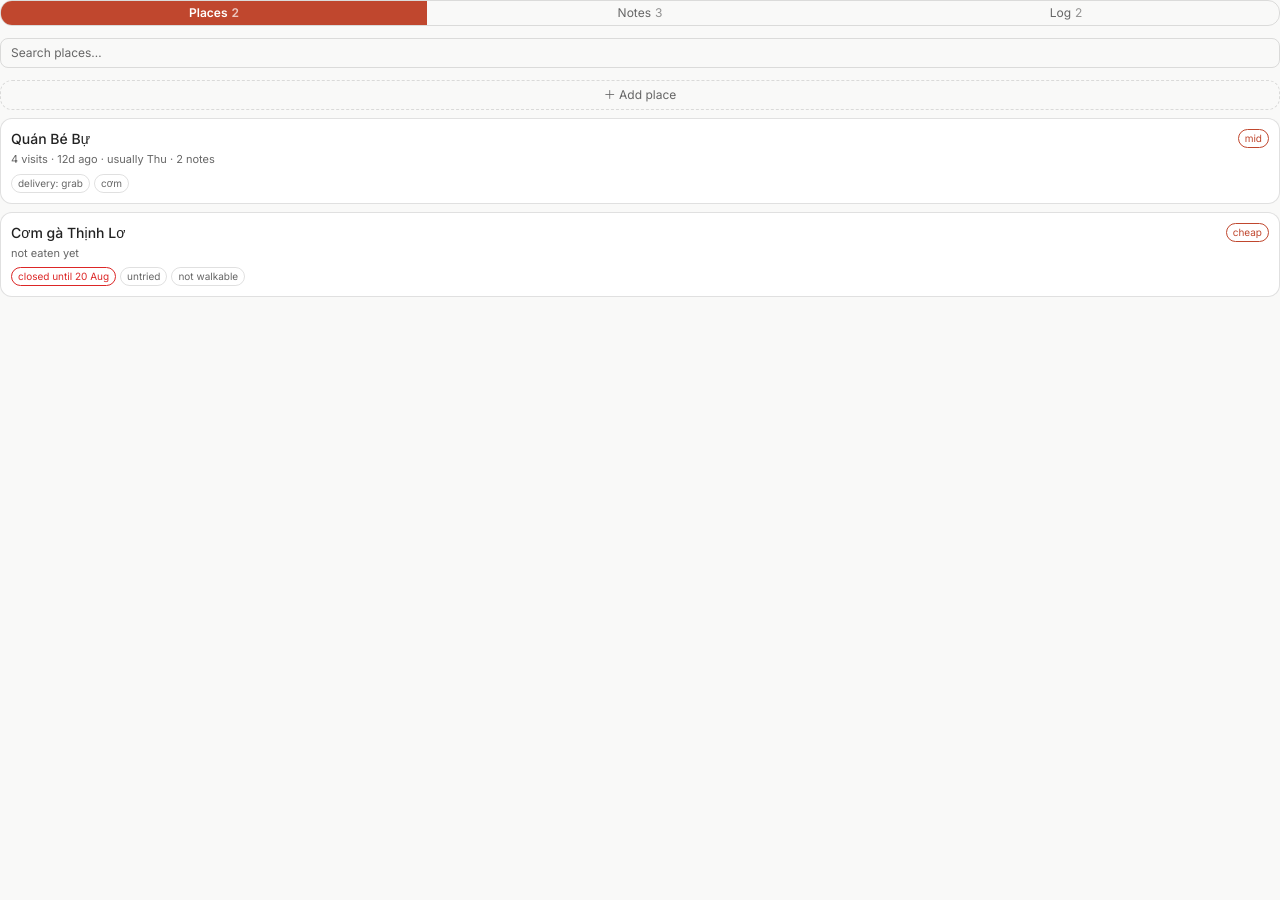
Test: KnowledgePanel — notes › opens the note editor on tap
The width and height of the screenshot is (1280, 900).
Check: the text "Quán Bé Bự" is shown, box left=11, top=130, right=90, bottom=147
Click the tab "Notes3".
click(640, 13)  # box left=427, top=1, right=853, bottom=25
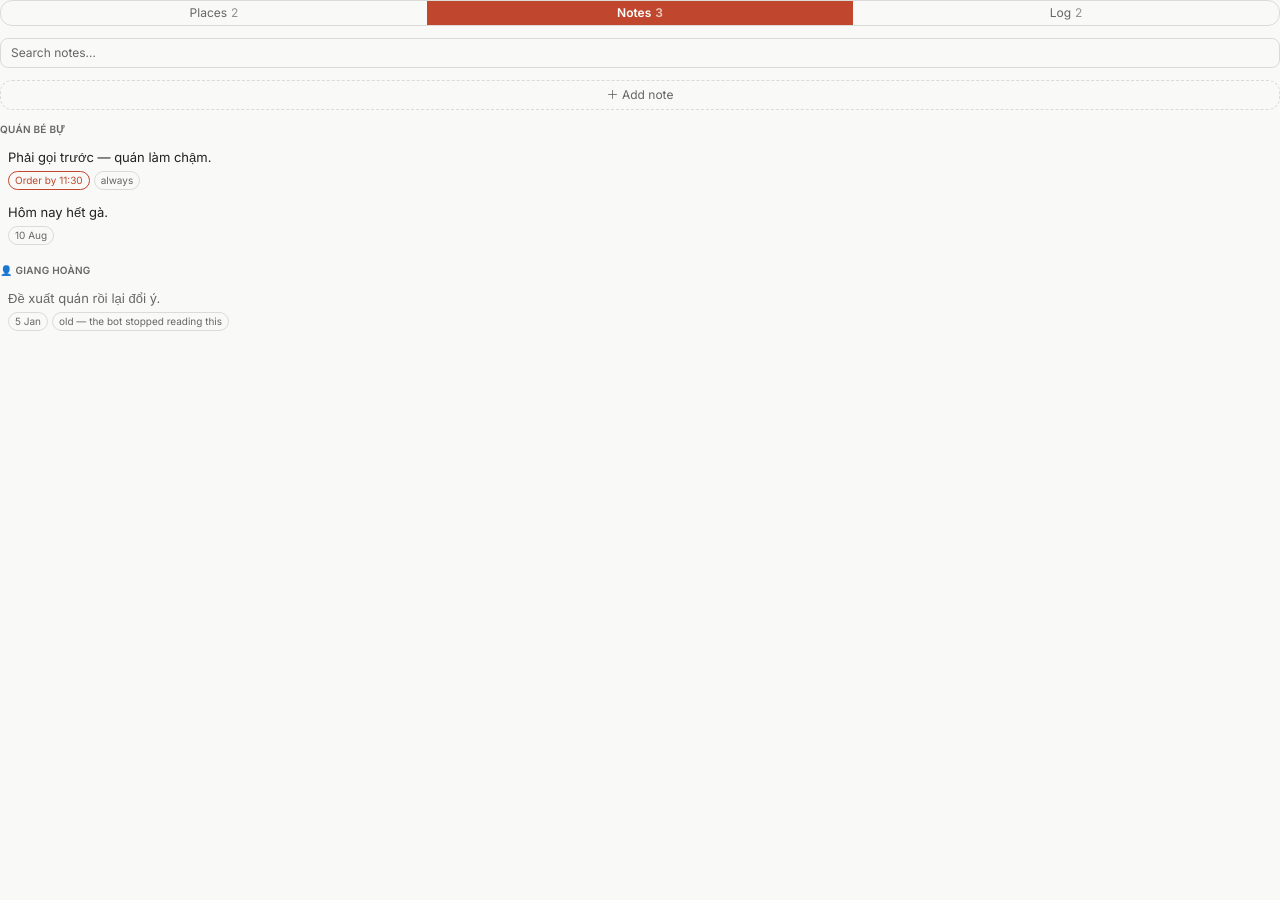
Click the text "Hôm nay hết gà.".
click(58, 212)  # box left=8, top=204, right=108, bottom=220
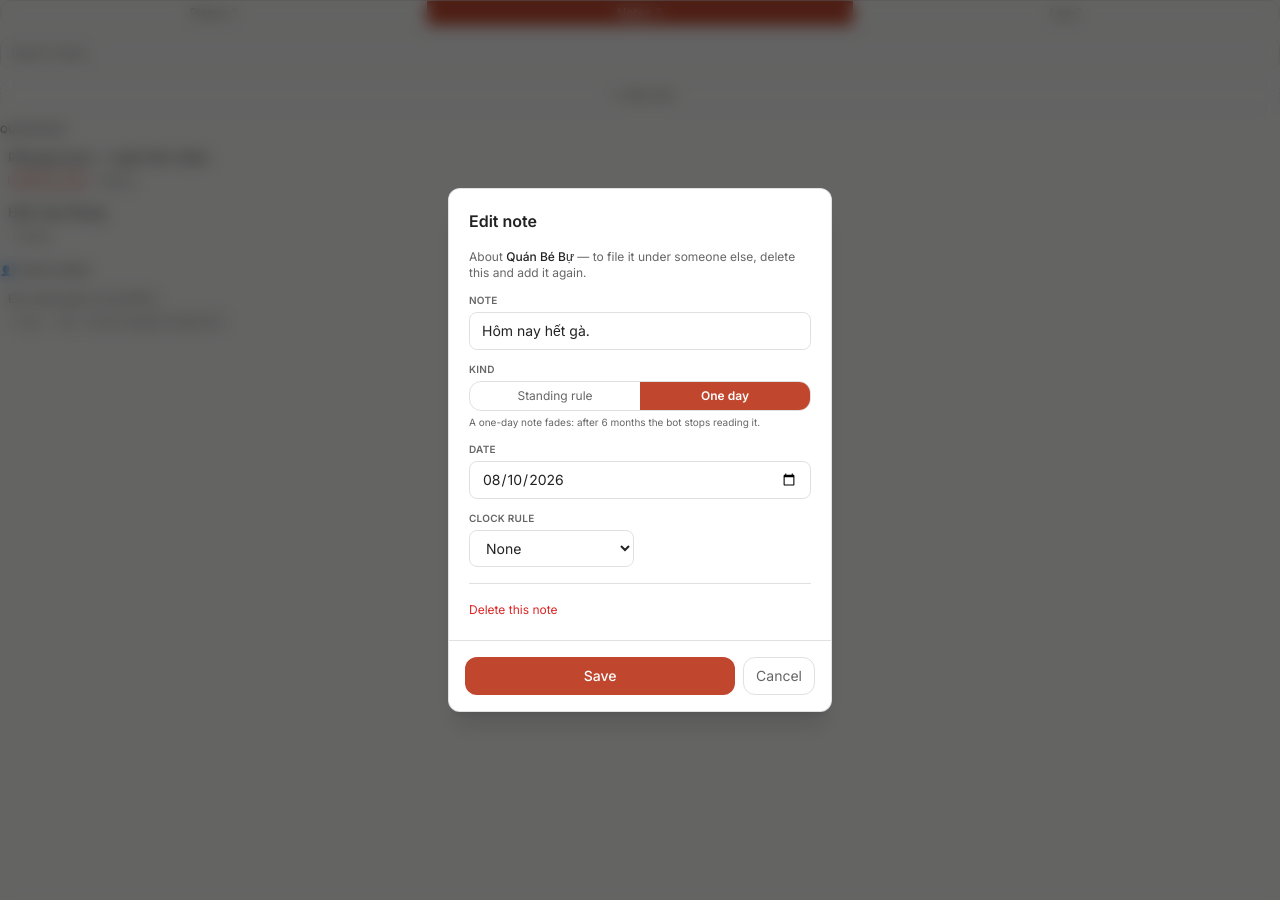
Check: the dialog "Edit note" is shown
